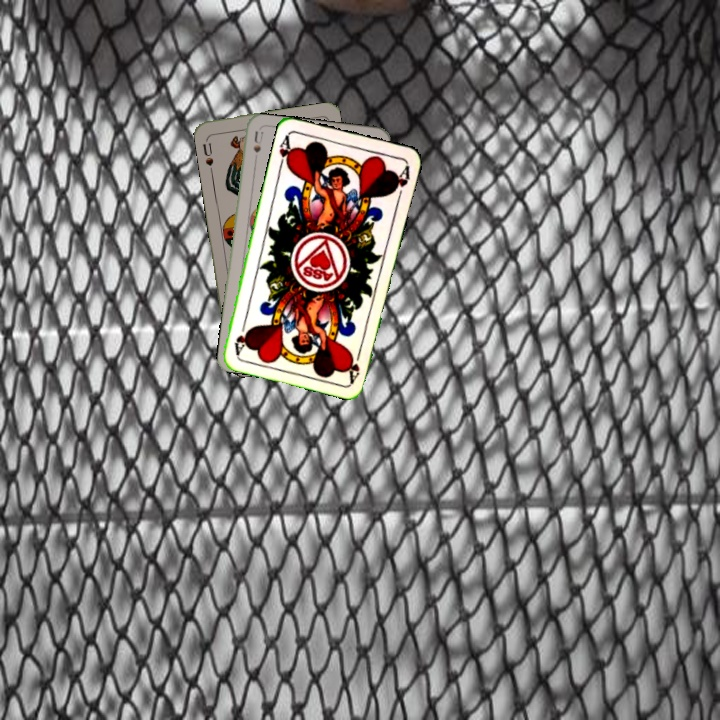HA: (275, 131, 296, 171), (344, 344, 364, 384)
SU: (249, 128, 265, 169), (199, 134, 216, 168)
